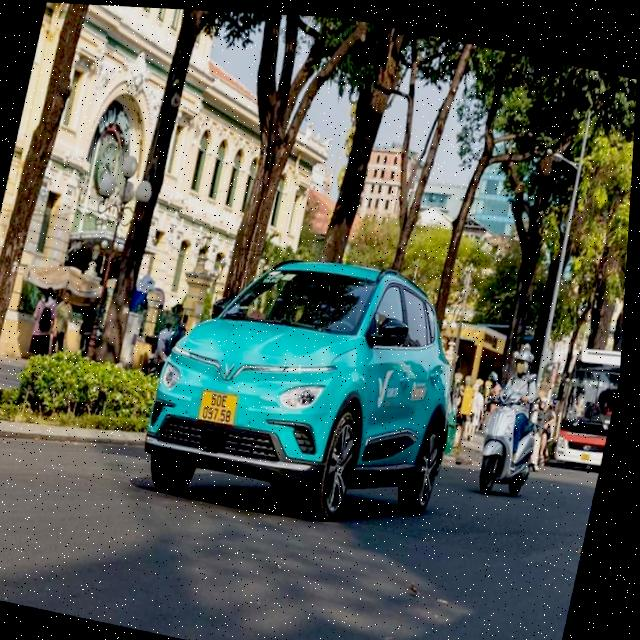car: (121, 223, 491, 555), (540, 323, 623, 502)
motorcycle: (465, 392, 549, 505)
plate: (193, 383, 245, 431)
